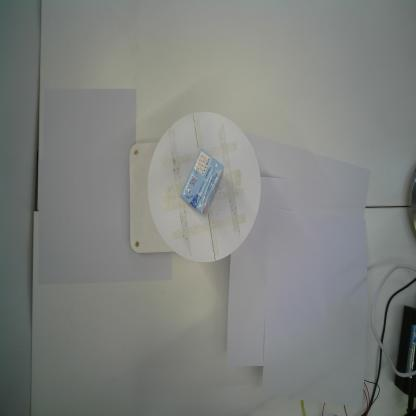Milk: (178, 149, 224, 217)
